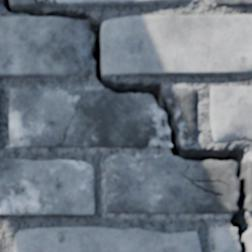brick: (102, 15, 251, 75), (0, 158, 94, 214), (0, 17, 89, 76), (15, 228, 200, 251), (210, 87, 251, 141), (57, 0, 188, 5), (214, 0, 251, 5), (11, 0, 41, 5)
broken_brick: (8, 87, 170, 148), (106, 155, 238, 214), (165, 87, 198, 146), (214, 226, 239, 251), (248, 155, 251, 208), (249, 231, 251, 248)
crack: (1, 0, 251, 251), (55, 104, 78, 147), (30, 0, 59, 4)
